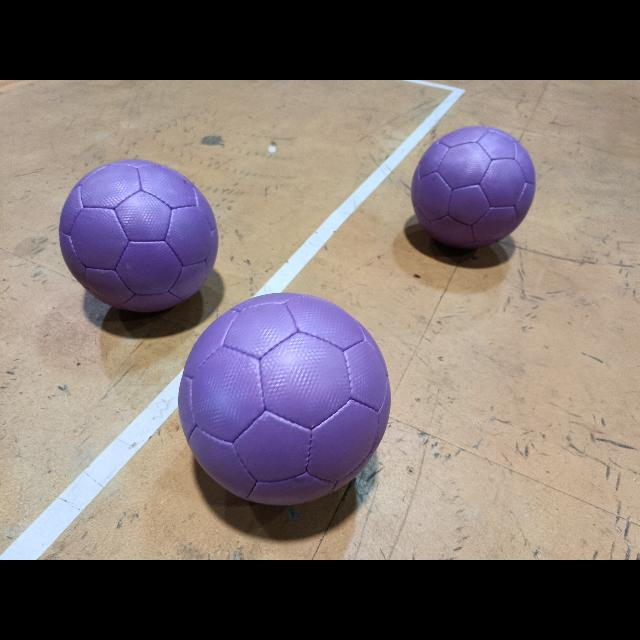P: (178, 292, 390, 503), (59, 160, 218, 312), (411, 126, 535, 248)
